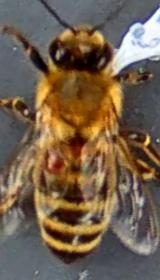varroa_mite: (37, 138, 68, 176)
